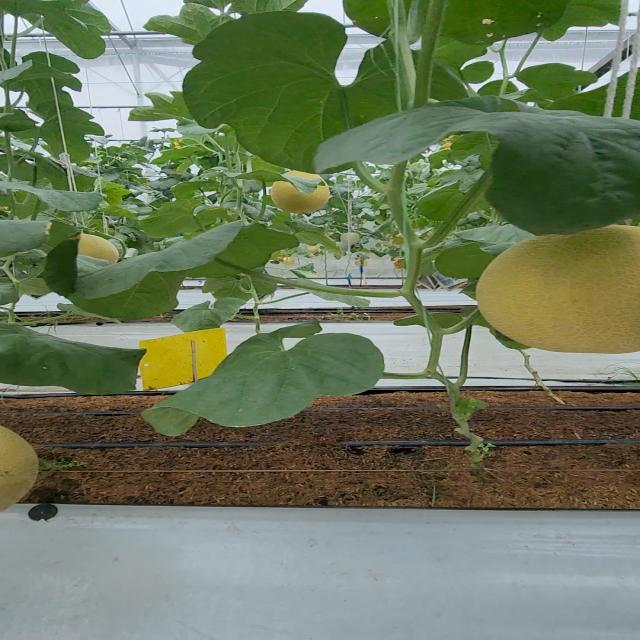Melon: (466, 226, 640, 357), (270, 169, 330, 219)
